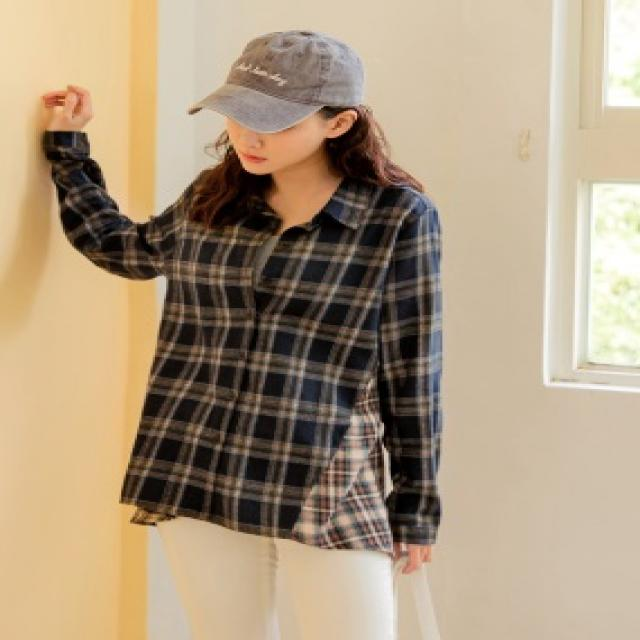plaid: (49, 146, 458, 578)
